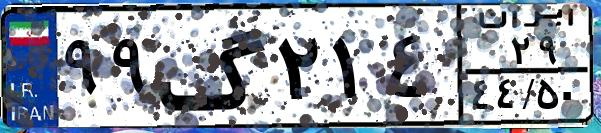0: (560, 70, 590, 125)
1: (330, 28, 385, 110)
2: (270, 28, 330, 110), (508, 27, 537, 80)
4: (385, 28, 445, 110), (470, 70, 495, 125), (495, 70, 520, 125)
5: (535, 70, 560, 125)
9: (57, 26, 110, 100), (110, 28, 156, 98), (537, 27, 568, 80)
گ: (156, 12, 270, 120)
